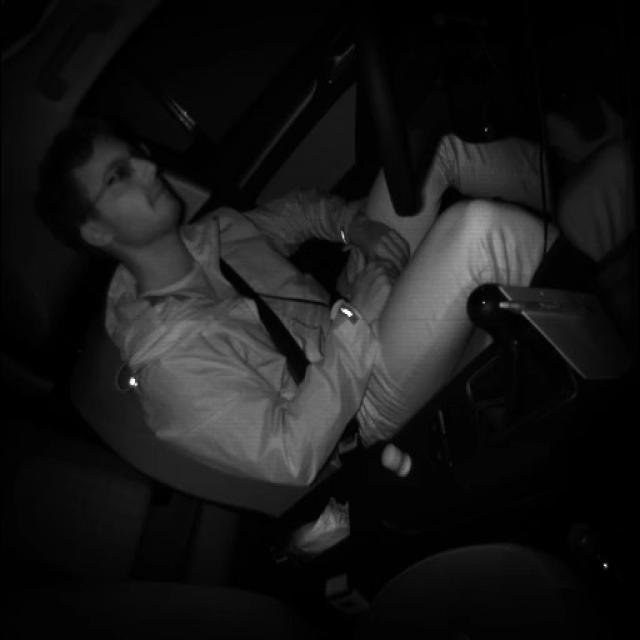pen: (498, 296, 592, 314)
